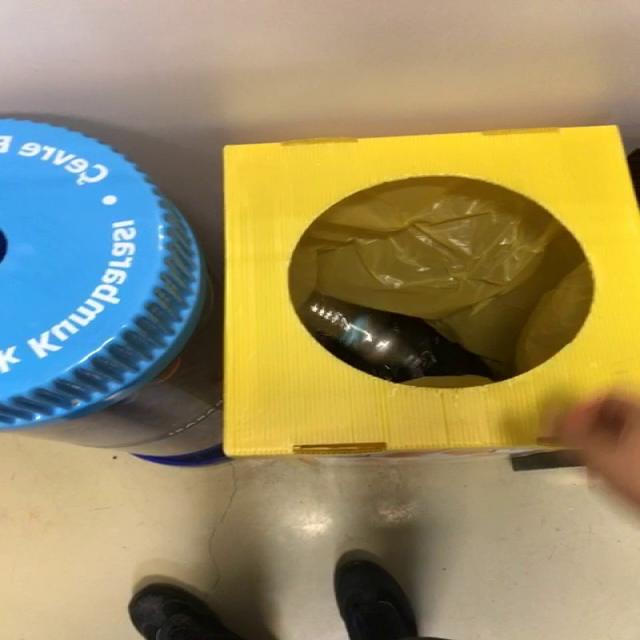plastic: (299, 297, 423, 364)
